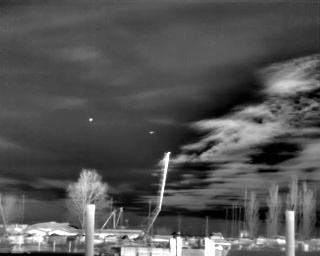BIRD: (87, 115, 95, 124)
